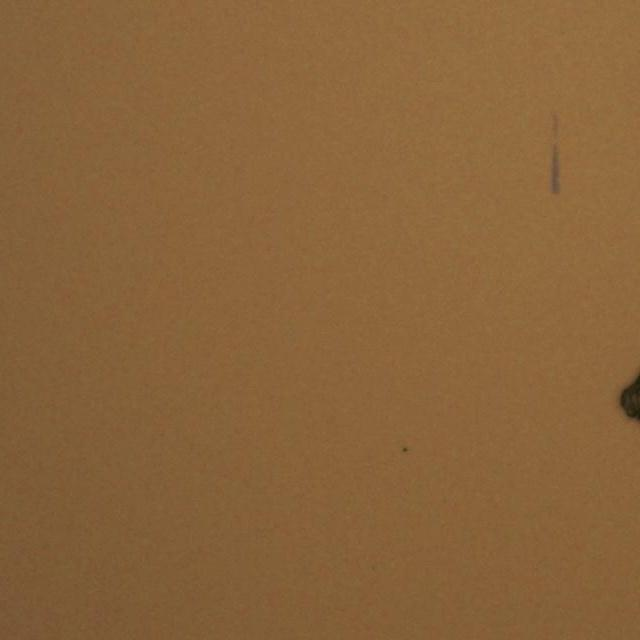monolayer-eWW4: (550, 144, 560, 196)
